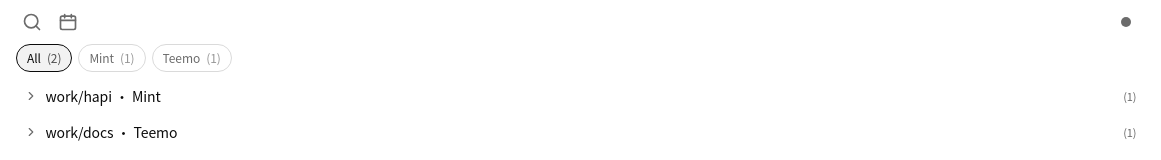
Scenario: SessionList machine filter › shows an empty state when the search only matches sessions on another machine
Click the button named "Search sessions by title, path, agent, machine or ID" at (32, 22), box x1=16 y1=6 x2=48 y2=38
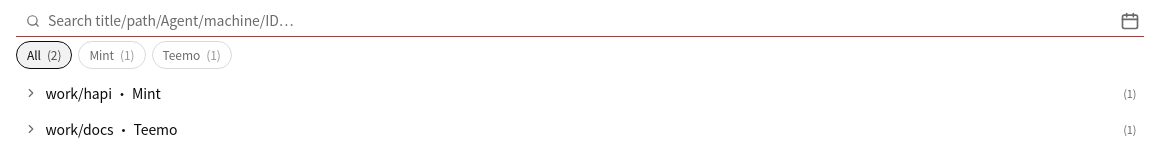
Type "alpha" into the search field with placeholder "Search title/path/Agent/machine/ID…" at (580, 20), box x1=16 y1=4 x2=1144 y2=37
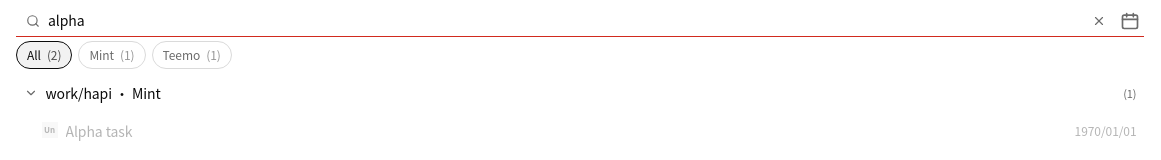
Click the button "Teemo (1)" at (192, 55), box x1=152 y1=41 x2=232 y2=69
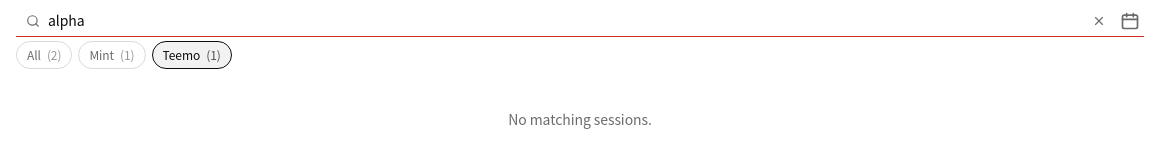
Expected: the text "No matching sessions." is shown, x1=508 y1=109 x2=652 y2=129
Expected: the element titled "/work/hapi" is gone
